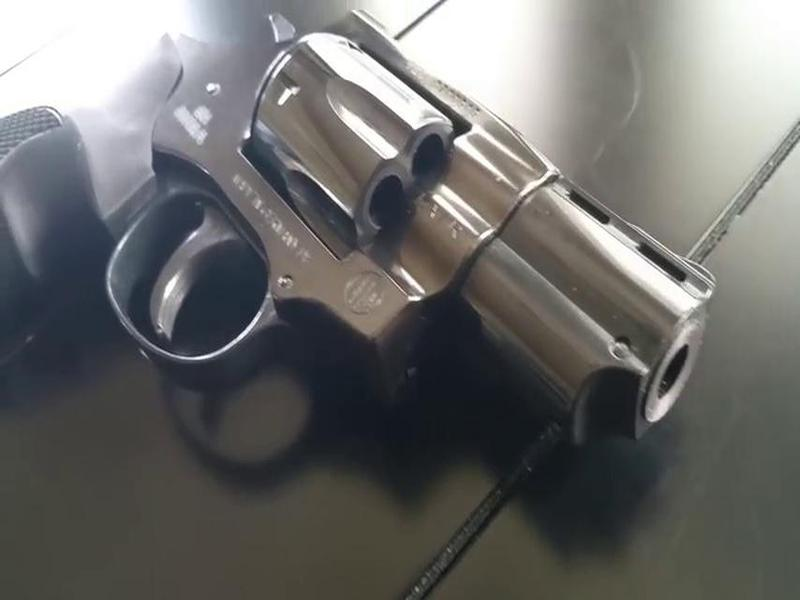Revolver: (46, 12, 706, 489)
